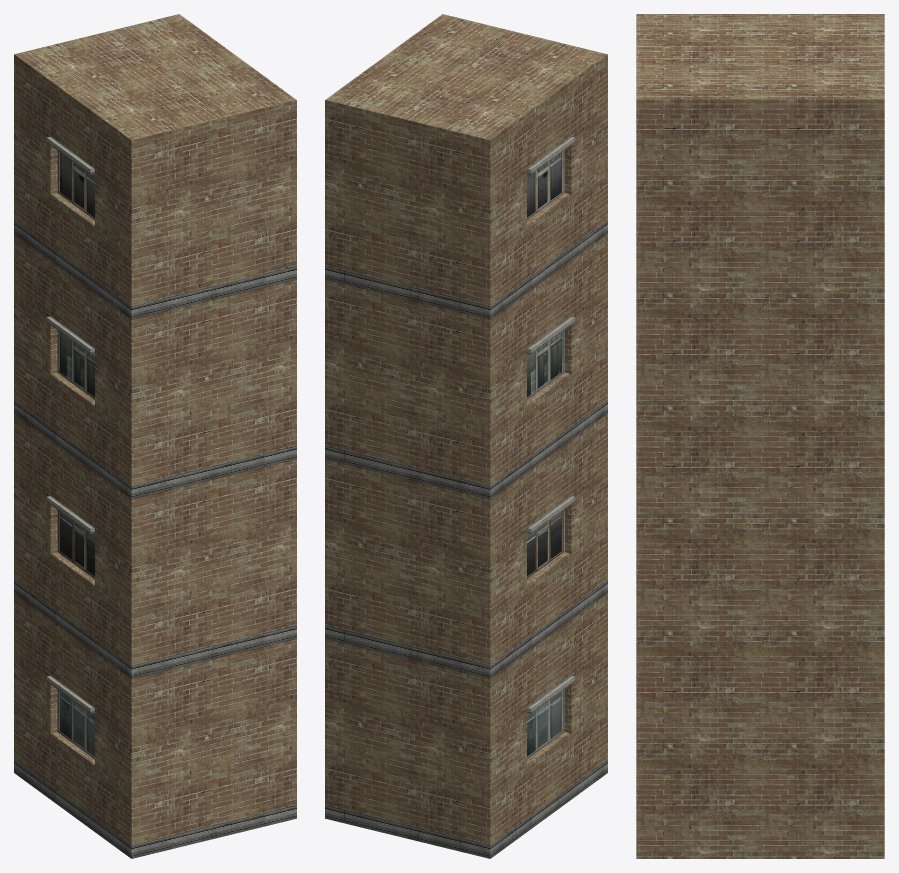
File: civ_mid_b.FBX
3 renders of one model, left to right at view 1: azimuth 30°, elevation 25°; view 2: azimuth 150°, elevation 25°; view 3: azimuth 270°, elevation 25°, orthographic. The views are drawn at different scales.
Parts seen in each view (by area): view 1: civ_mid_b; view 2: civ_mid_b; view 3: civ_mid_b.
Boxes of the visible parts, x1=… form: civ_mid_b: x1=14, y1=14, x2=296, y2=858; civ_mid_b: x1=325, y1=14, x2=607, y2=858; civ_mid_b: x1=636, y1=14, x2=884, y2=858.
Bounding box in the file's own units: 333 × 1350 × 400.
